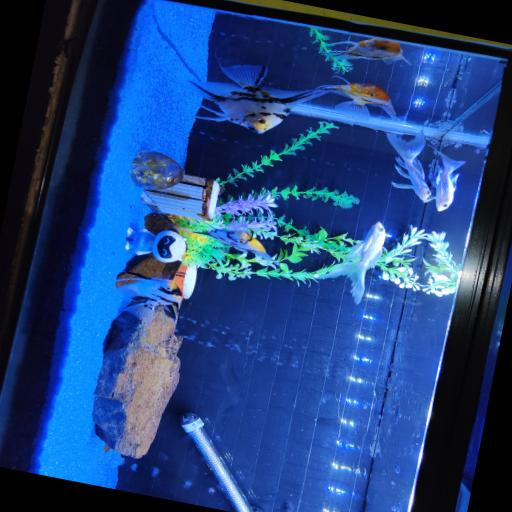Fish: (174, 65, 331, 133), (316, 222, 384, 304), (170, 225, 278, 265), (117, 271, 181, 324), (320, 76, 396, 120), (386, 131, 430, 200), (428, 145, 464, 211), (322, 38, 409, 64)
